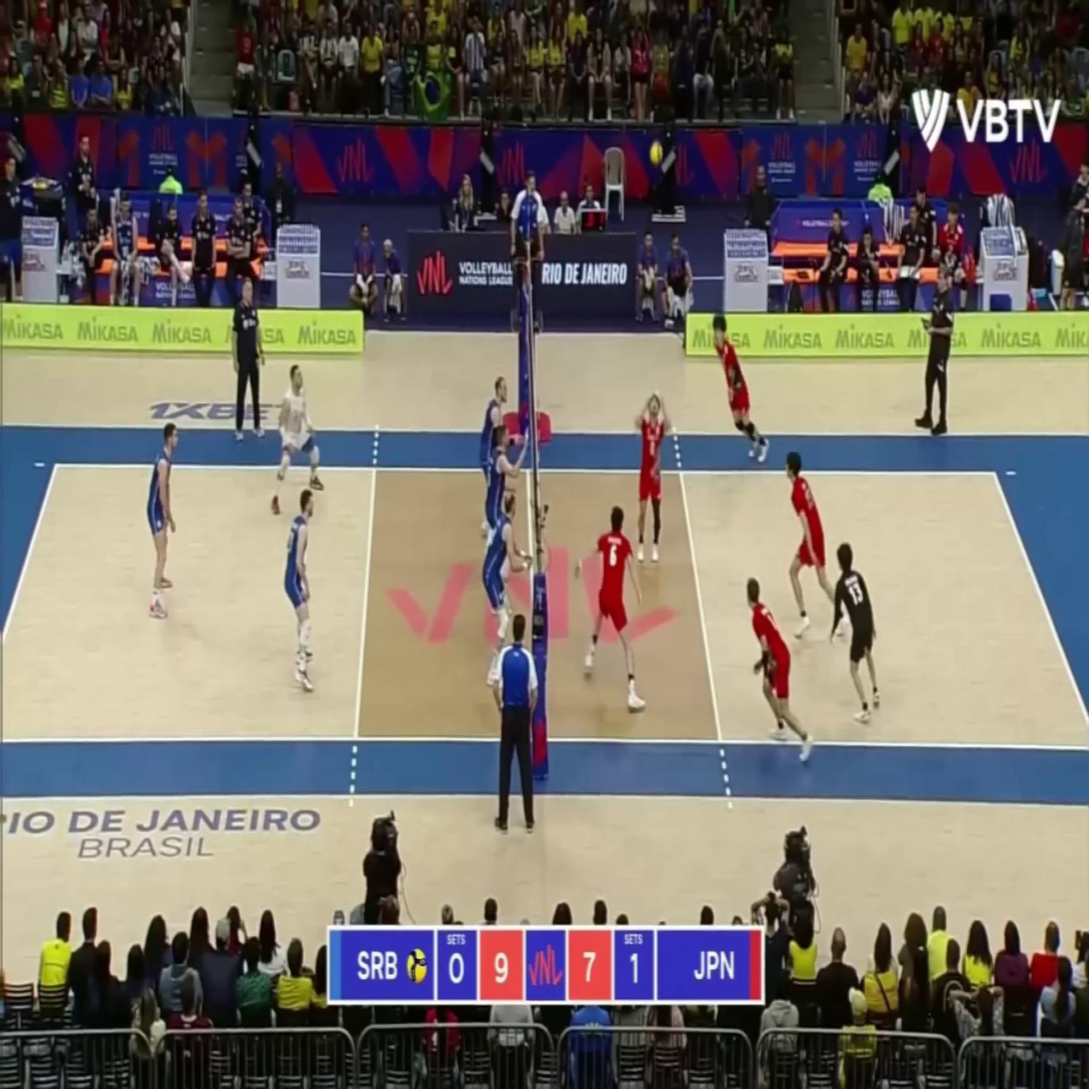ball: (649, 141, 662, 166)
